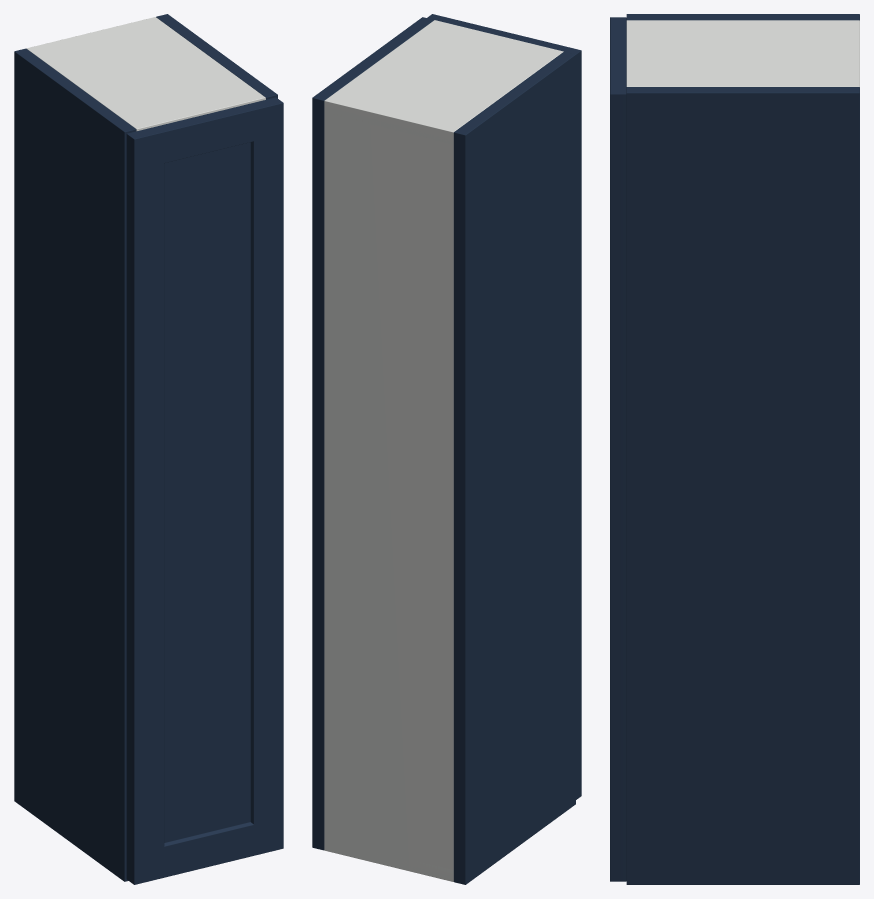
File: oppein-pb-bss-w0942.glb
The picture shows the model from 3 angles, left to right: view 1: azimuth 30°, elevation 25°; view 2: azimuth 150°, elevation 25°; view 3: azimuth 270°, elevation 25°; orthographic projection. The views are drawn at different scales.
Visible parts, largest first — view 1: Door, Cabinet side, Cabinet top, Cabinet side.001; view 2: Cabinet back, Cabinet side, Cabinet top, Cabinet side.001, Door; view 3: Cabinet side.001, Cabinet top, Door, Cabinet side.
Boxes of the visible parts, x1,y1,x2,y2 form: Door: [126, 97, 283, 884]; Cabinet side: [14, 48, 136, 881]; Cabinet top: [26, 17, 265, 131]; Cabinet side.001: [156, 14, 277, 99]; Cabinet back: [324, 101, 453, 881]; Cabinet side: [453, 51, 575, 884]; Cabinet top: [324, 20, 563, 143]; Cabinet side.001: [312, 17, 433, 850]; Door: [427, 14, 581, 799]; Cabinet side.001: [626, 87, 859, 884]; Cabinet top: [626, 20, 859, 86]; Door: [610, 17, 626, 881]; Cabinet side: [626, 14, 859, 20].
Bounding box in the file's own units: 0.2286 × 1.07 × 0.3048.
